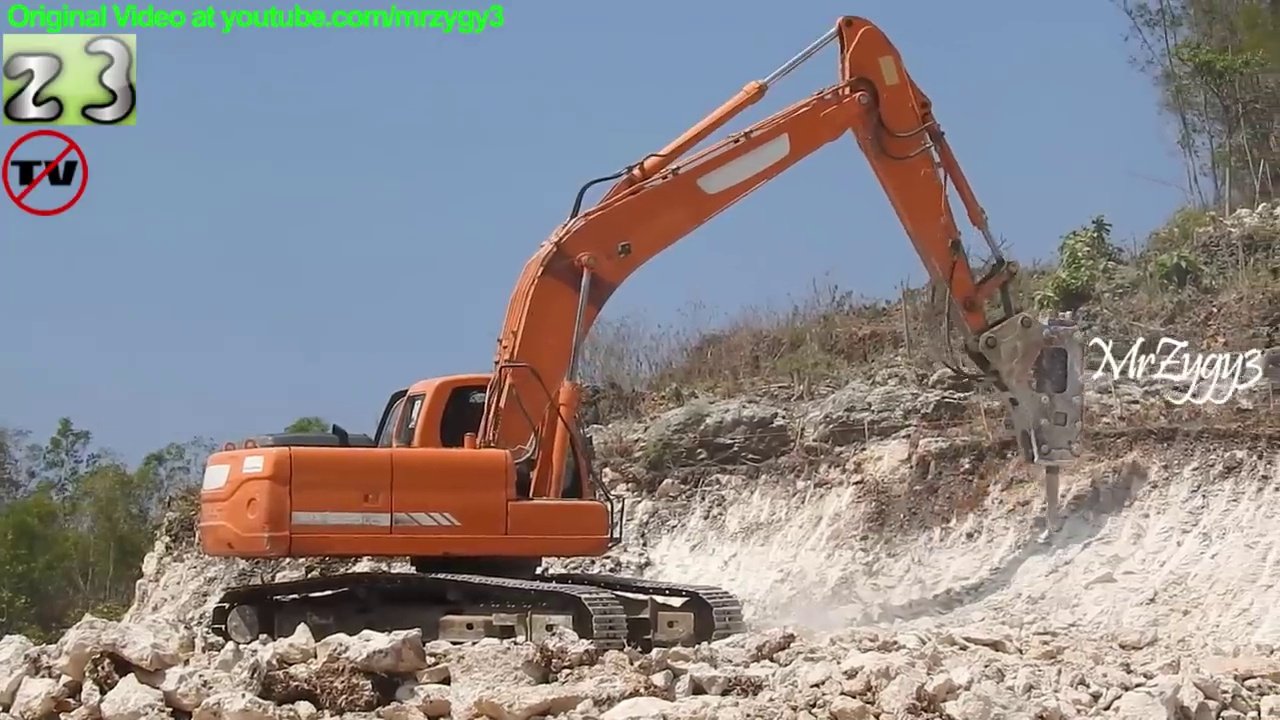excavator breaker: (193, 14, 1081, 668)
